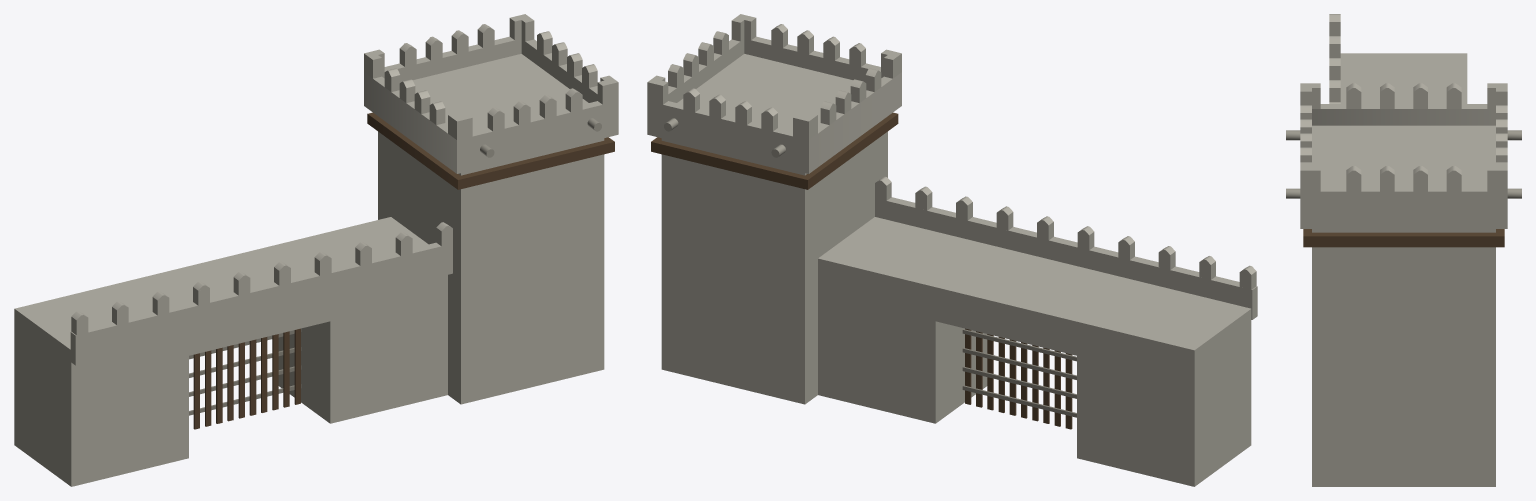
File: akershus-wall.glb
3 renders of one model, left to right at view 1: azimuth 30°, elevation 25°; view 2: azimuth 150°, elevation 25°; view 3: azimuth 270°, elevation 25°, orthographic. The views are drawn at different scales.
Visible parts, largest first — view 1: wallBody (×3), towerBody, SplineGateBattlement, SplineTowerTop, SplineAroundTowerDetail; view 2: wallBody (×3), towerBody, SplineTowerTop, SplineGateBattlement, SplineAroundTowerDetail; view 3: towerBody, SplineTowerTop, wallBody, SplineAroundTowerDetail, BattlementsCornerSpline (×4), towerBattlementZ (×4).
Part boxes in pixels (x1=…): wallBody (×3): x1=14, y1=217, x2=447, y2=486; towerBody: x1=378, y1=54, x2=604, y2=404; SplineGateBattlement: x1=70, y1=242, x2=452, y2=365; SplineTowerTop: x1=364, y1=36, x2=618, y2=173; SplineAroundTowerDetail: x1=367, y1=112, x2=614, y2=189; wallBody (×3): x1=818, y1=217, x2=1251, y2=486; towerBody: x1=661, y1=54, x2=887, y2=404; SplineTowerTop: x1=647, y1=36, x2=901, y2=173; SplineGateBattlement: x1=875, y1=197, x2=1257, y2=319; SplineAroundTowerDetail: x1=651, y1=112, x2=898, y2=189; towerBody: x1=1312, y1=125, x2=1495, y2=486; SplineTowerTop: x1=1300, y1=104, x2=1507, y2=228; wallBody: x1=1340, y1=53, x2=1467, y2=103; SplineAroundTowerDetail: x1=1303, y1=229, x2=1504, y2=247; BattlementsCornerSpline (×4): x1=1300, y1=83, x2=1507, y2=191; towerBattlementZ (×4): x1=1346, y1=92, x2=1461, y2=191.
Size of the model in its own units: 29.55 by 15.4 by 10.25.
